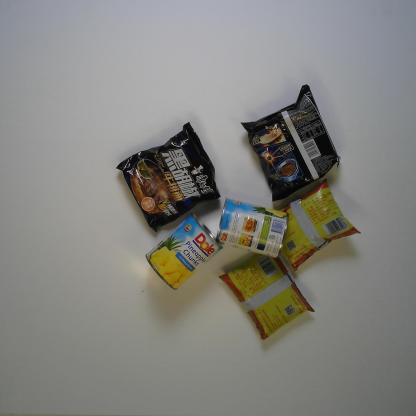Canned Food: (144, 213, 226, 292), (214, 197, 290, 258)
Instant Noodles: (240, 83, 342, 205), (115, 120, 223, 233)
Seasoner: (217, 248, 316, 341), (267, 178, 363, 270)
